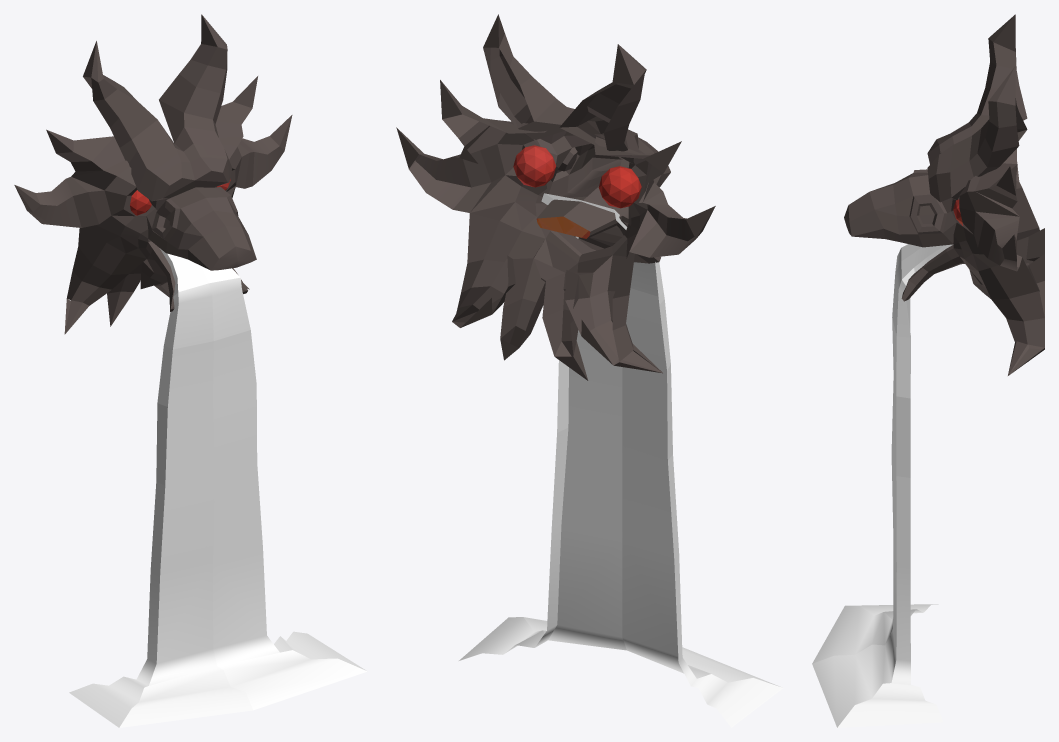
File: lavaTrap.fbx
3 views of the same model, side by side, from view 1: azimuth 30°, elevation 25°; view 2: azimuth 150°, elevation 25°; view 3: azimuth 270°, elevation 25° (orthographic). The views are drawn at different scales.
Visible parts, largest first — view 1: laveTrapLava, lavaTrap; view 2: lavaTrap, laveTrapLava; view 3: lavaTrap, laveTrapLava.
Part boxes in pixels (x1,y1,x2,y2): laveTrapLava: (69,248,367,727); lavaTrap: (14,14,292,334); lavaTrap: (396,14,715,380); laveTrapLava: (459,193,783,727); lavaTrap: (844,14,1044,375); laveTrapLava: (812,244,953,727).
Bounding box in the file's own units: 3.34 × 6.99 × 2.37.
Materials: 3 (3 with a texture image).
